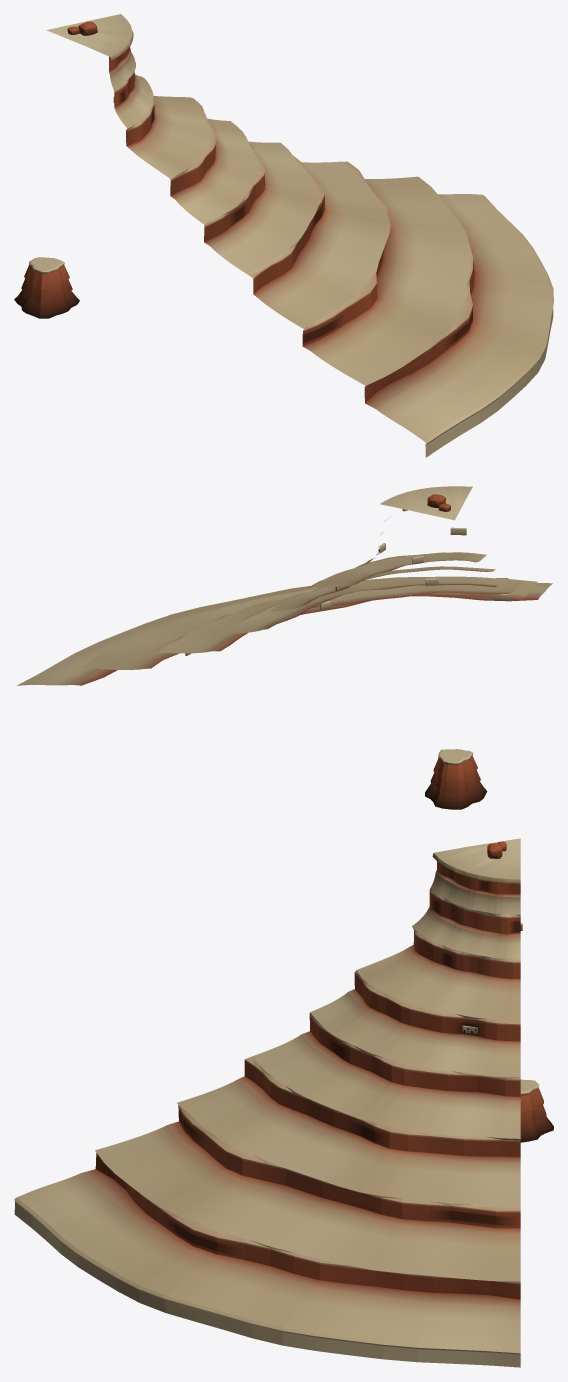
File: canyon-s2-B36hwnze.glb
3 views of the same model, one above another, from view 1: azimuth 30°, elevation 25°; view 2: azimuth 150°, elevation 25°; view 3: azimuth 270°, elevation 25° (orthographic). The views are drawn at different scales.
Parts seen in each view (by area): view 1: sc_landmark_4, sc_mesa_1; view 2: sc_landmark_4, sc_mesa_1; view 3: sc_landmark_4, sc_mesa_1.
Part boxes in pixels (left/top/right/bottom): sc_landmark_4: left=46, top=14, right=553, bottom=457; sc_mesa_1: left=14, top=257, right=79, bottom=318; sc_landmark_4: left=17, top=486, right=552, bottom=685; sc_mesa_1: left=425, top=749, right=487, bottom=809; sc_landmark_4: left=14, top=838, right=522, bottom=1367; sc_mesa_1: left=520, top=1079, right=553, bottom=1142.
Bounding box in the file's own units: 451 × 275 × 431.
